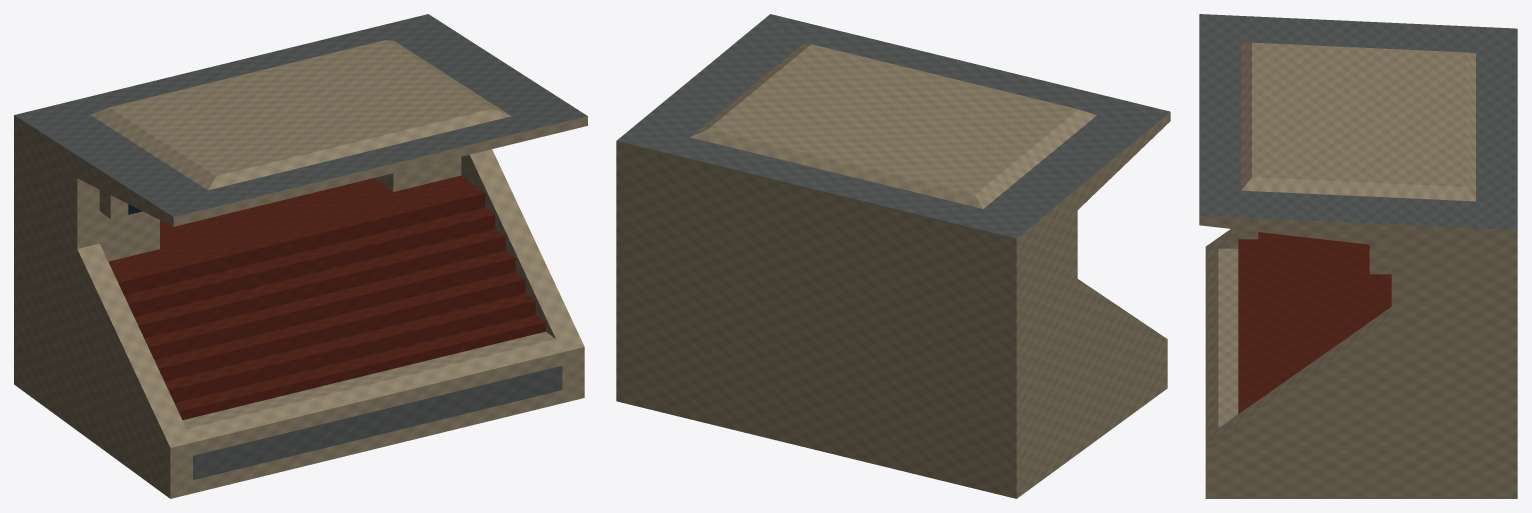
Rendered from grandstand.glb.
3 renders of one model, left to right at view 1: azimuth 30°, elevation 25°; view 2: azimuth 150°, elevation 25°; view 3: azimuth 270°, elevation 25°, orthographic. The views are drawn at different scales.
Visible parts, largest first — view 1: grandstand-grandStandCovered(Clone); view 2: grandstand-grandStandCovered(Clone); view 3: grandstand-grandStandCovered(Clone).
Boxes of the visible parts, <box> form: grandstand-grandStandCovered(Clone): <box>14,14,587,498</box>; grandstand-grandStandCovered(Clone): <box>616,14,1170,498</box>; grandstand-grandStandCovered(Clone): <box>1199,14,1517,498</box>.
Size of the model in its own units: 12 by 8 by 8.
Materials: 4 (4 with a texture image).
